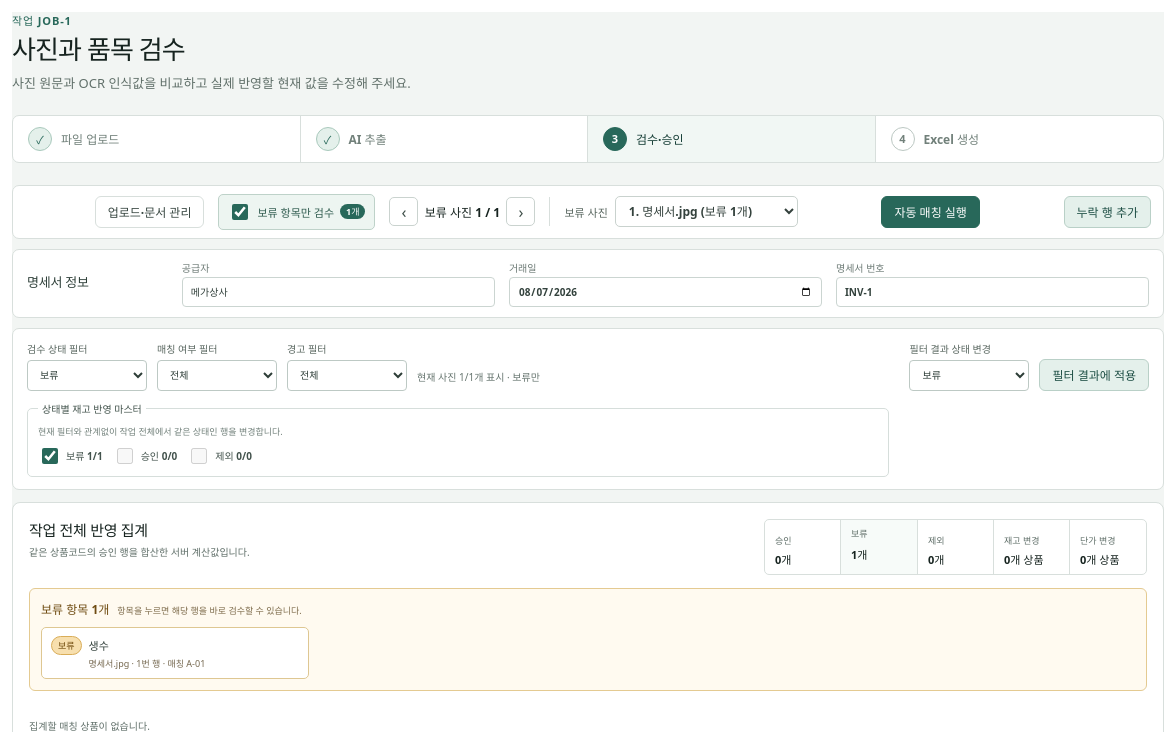
사진과 품목 검수 › 문서 메타데이터 저장에 실패하면 서버 최신값으로 입력을 복구한다
Replace the text in the field named "사진 공급자" with "저장되지 않은 공급사" at x=338, y=292, box [182,277,495,307]
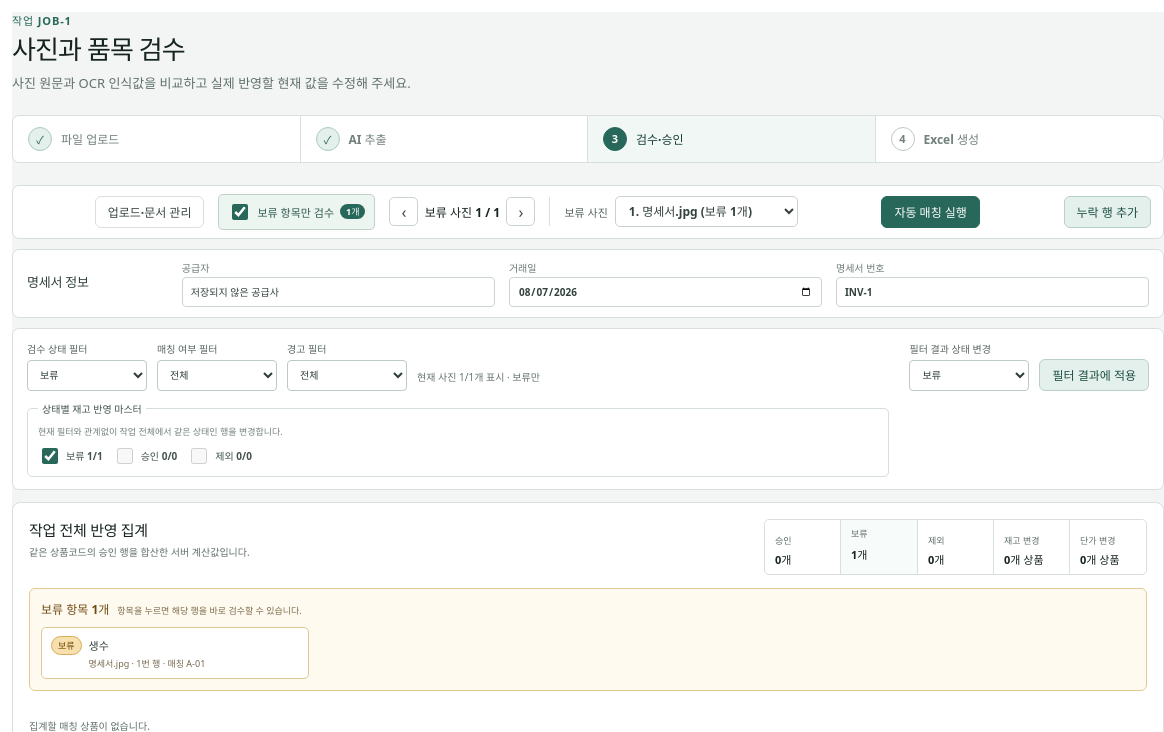
Leave the field named "사진 공급자", box [182,277,495,307]
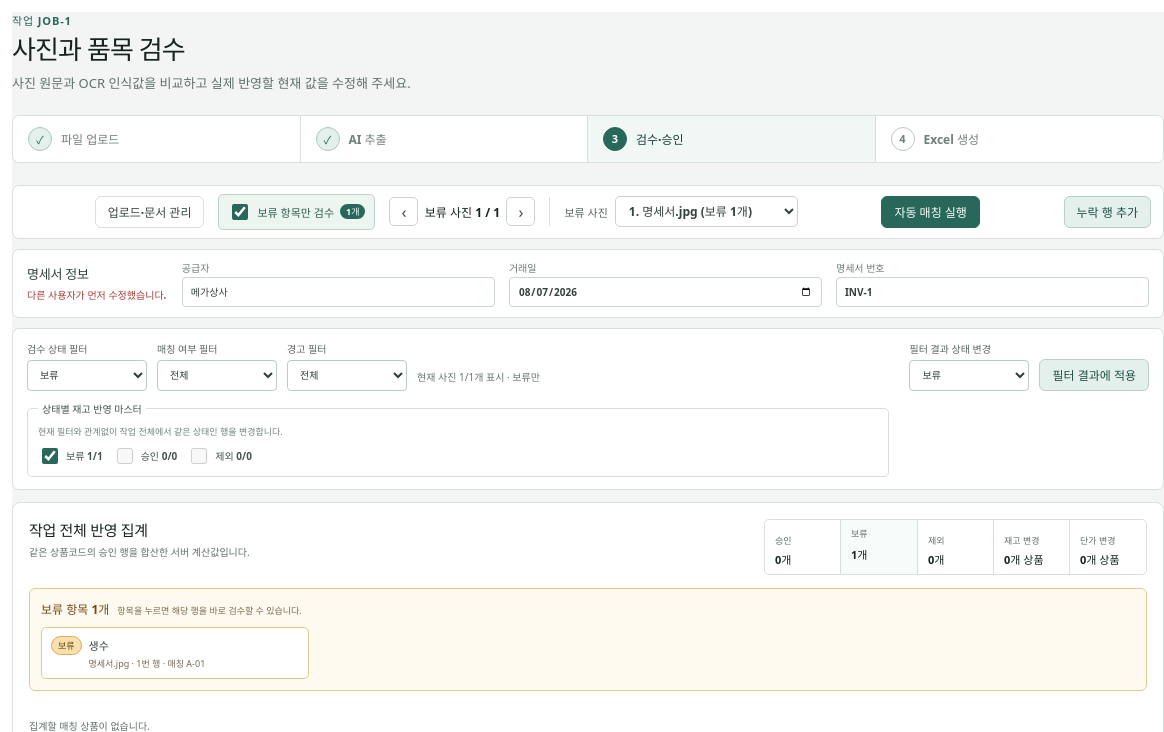
Expected: the message reads "다른 사용자가 먼저 수정했습니다.", [27,288,166,302]
Expected: the field named "사진 공급자" holds "메가상사", [182,277,495,307]
